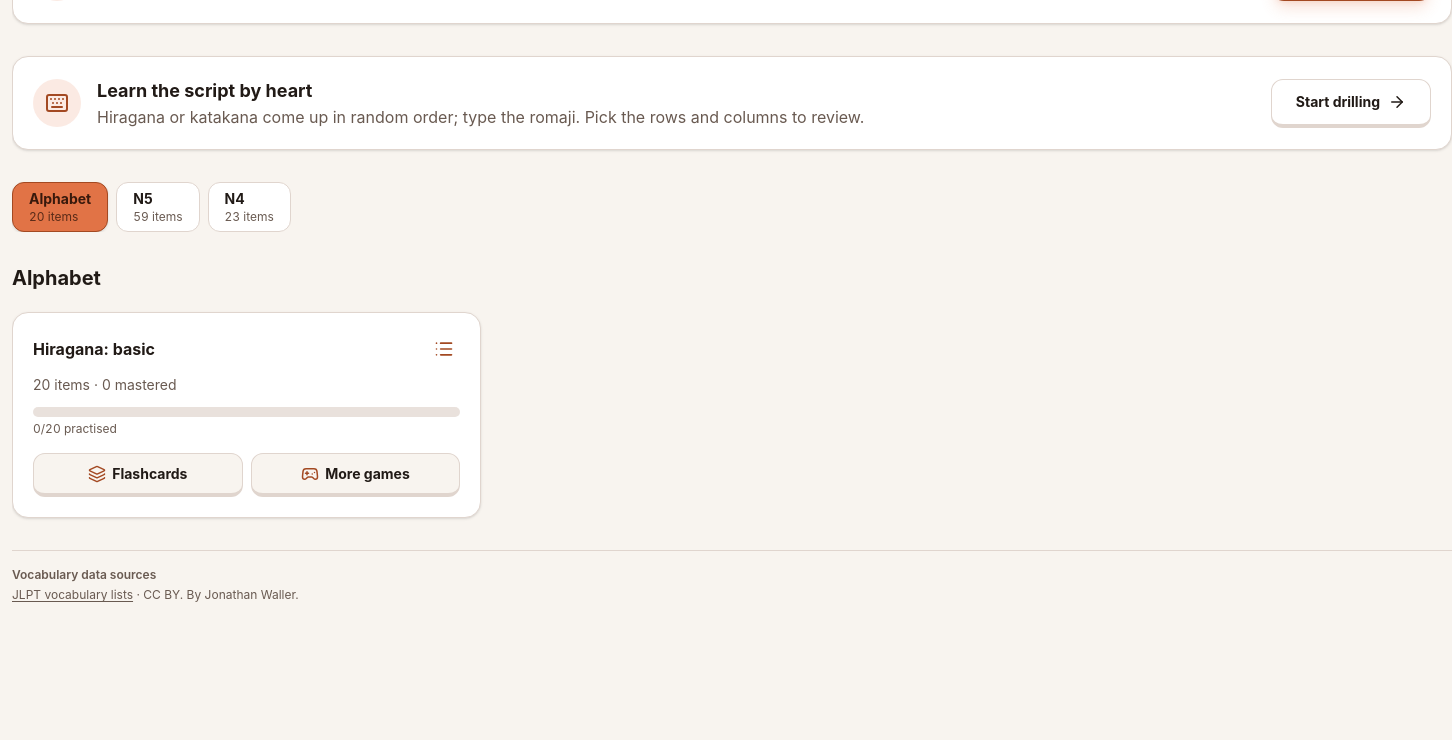
Test: practice hub with exam levels › shows one tab per shelf and one card per topic of the chosen level
Expected: the heading "Hiragana: basic" is shown, [33,337,155,361]
Click the button "N5 59 items" at (158, 207), box [116,182,200,232]
(page scrolled)
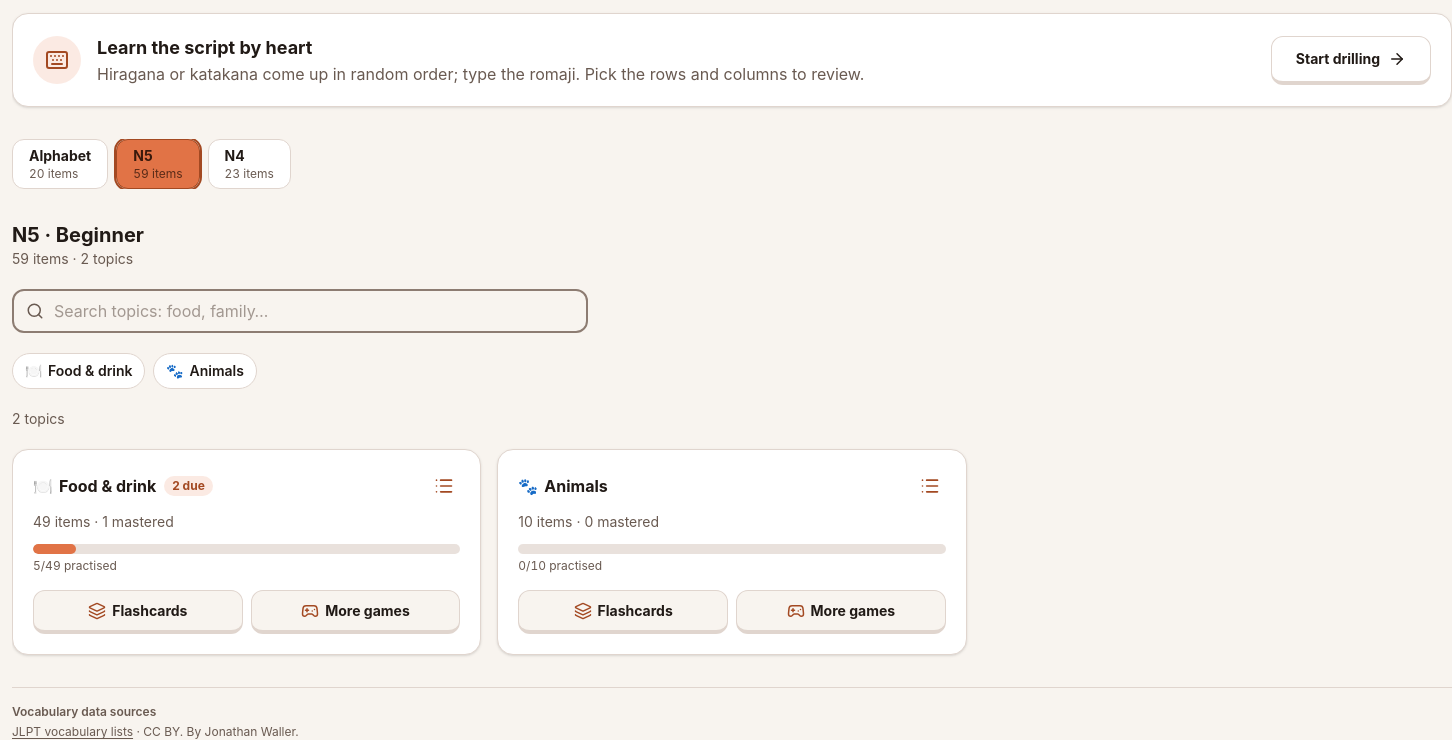
Expected: the heading "N5 · Beginner" is shown, [12,223,144,247]
Expected: the text "5/49 practised" is shown, [33,558,117,573]
Expected: the text "49 items · 1 mastered" is shown, [33,513,174,530]
